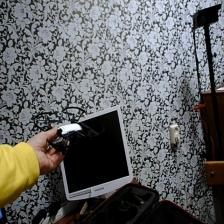drone: (34, 108, 100, 151)
